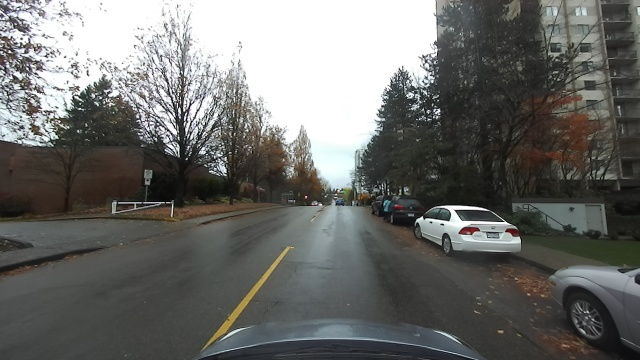car: (541, 251, 640, 355), (412, 198, 524, 258), (379, 195, 423, 226), (332, 197, 346, 206)
